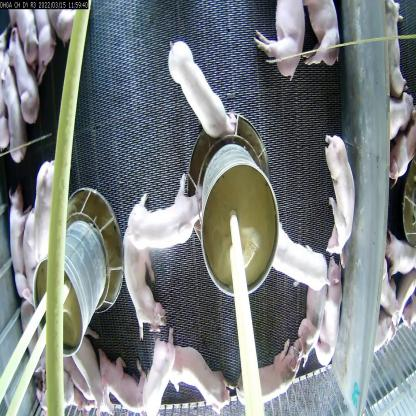Pig: (163, 32, 233, 153), (158, 317, 234, 415), (311, 134, 357, 278), (125, 178, 206, 256), (123, 228, 169, 360), (244, 336, 308, 412), (6, 19, 42, 149), (249, 0, 304, 81), (62, 325, 110, 415), (101, 350, 164, 416), (2, 176, 36, 298), (25, 156, 59, 274), (272, 219, 324, 291), (316, 267, 350, 374), (137, 332, 176, 416)
